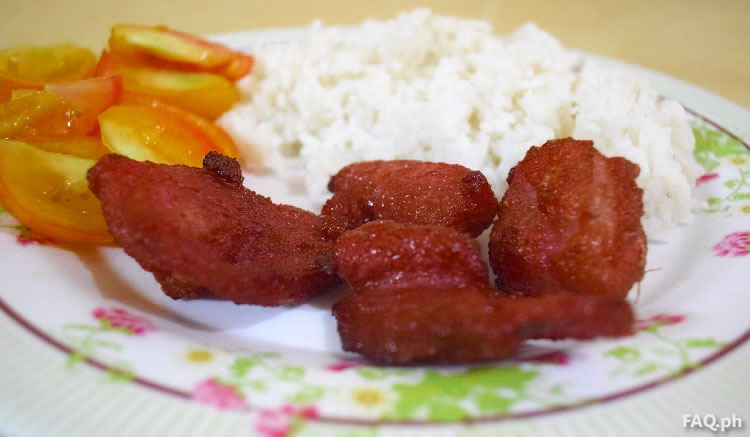plain rice: (264, 35, 647, 136)
